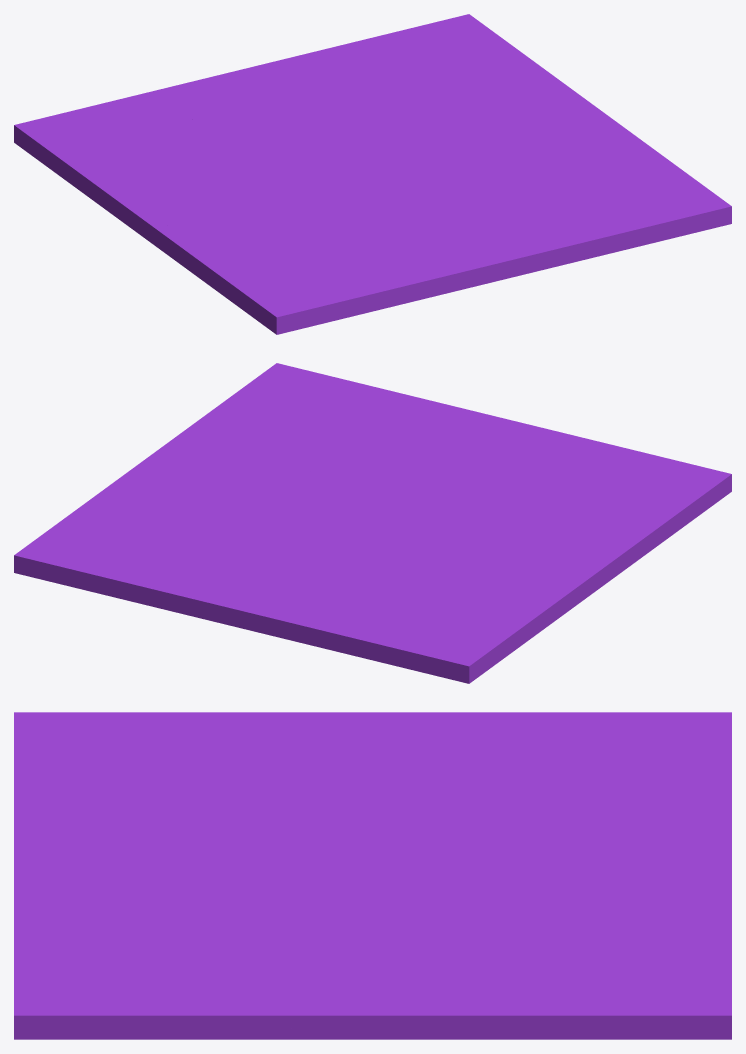
Rendered from Platform_3_chunks.fbx.
The picture shows the model from 3 angles, top to bottom: view 1: azimuth 30°, elevation 25°; view 2: azimuth 150°, elevation 25°; view 3: azimuth 270°, elevation 25°; orthographic projection. The views are drawn at different scales.
Visible parts, largest first — view 1: Platform_3_0, Platform_3_1, Platform_3_6, Platform_3_12, Platform_3_7, Platform_3_11, Platform_3_9, Platform_3_4, Platform_3_5, Platform_3_2, Platform_3_3; view 2: Platform_3_6, Platform_3_0, Platform_3_12, Platform_3_1, Platform_3_7, Platform_3_11, Platform_3_9, Platform_3_5, Platform_3_4, Platform_3_2, Platform_3_3; view 3: Platform_3_0, Platform_3_12, Platform_3_6, Platform_3_1, Platform_3_11, Platform_3_7, Platform_3_9, Platform_3_5, Platform_3_4, Platform_3_2, Platform_3_3, Platform_3_8.
Part boxes in pixels (box(x1,y1,x2,y2)): Platform_3_0: box(361, 160, 731, 262); Platform_3_1: box(194, 230, 494, 334); Platform_3_6: box(14, 93, 235, 247); Platform_3_12: box(384, 14, 629, 131); Platform_3_7: box(145, 53, 362, 146); Platform_3_11: box(368, 115, 682, 170); Platform_3_9: box(308, 35, 449, 150); Platform_3_4: box(157, 172, 366, 274); Platform_3_5: box(161, 141, 373, 238); Platform_3_2: box(359, 175, 572, 282); Platform_3_3: box(339, 206, 488, 262); Platform_3_6: box(338, 559, 616, 683); Platform_3_0: box(228, 363, 469, 516); Platform_3_12: box(14, 437, 231, 594); Platform_3_1: box(513, 421, 731, 551); Platform_3_7: box(175, 530, 389, 652); Platform_3_11: box(175, 398, 361, 523); Platform_3_9: box(100, 511, 344, 613); Platform_3_5: box(329, 515, 618, 569); Platform_3_4: box(393, 495, 650, 578); Platform_3_2: box(395, 410, 513, 512); Platform_3_3: box(463, 423, 520, 499); Platform_3_0: box(14, 853, 386, 1039); Platform_3_12: box(291, 936, 731, 1039); Platform_3_6: box(331, 712, 731, 808); Platform_3_1: box(14, 712, 236, 857); Platform_3_11: box(106, 868, 460, 1039); Platform_3_7: box(448, 799, 731, 908); Platform_3_9: box(417, 871, 731, 958); Platform_3_5: box(324, 712, 496, 875); Platform_3_4: box(216, 712, 361, 854); Platform_3_2: box(14, 829, 351, 886); Platform_3_3: box(21, 803, 267, 856); Platform_3_8: box(494, 802, 553, 825).
Bounding box in the file's own units: 810 × 29.87 × 810.
